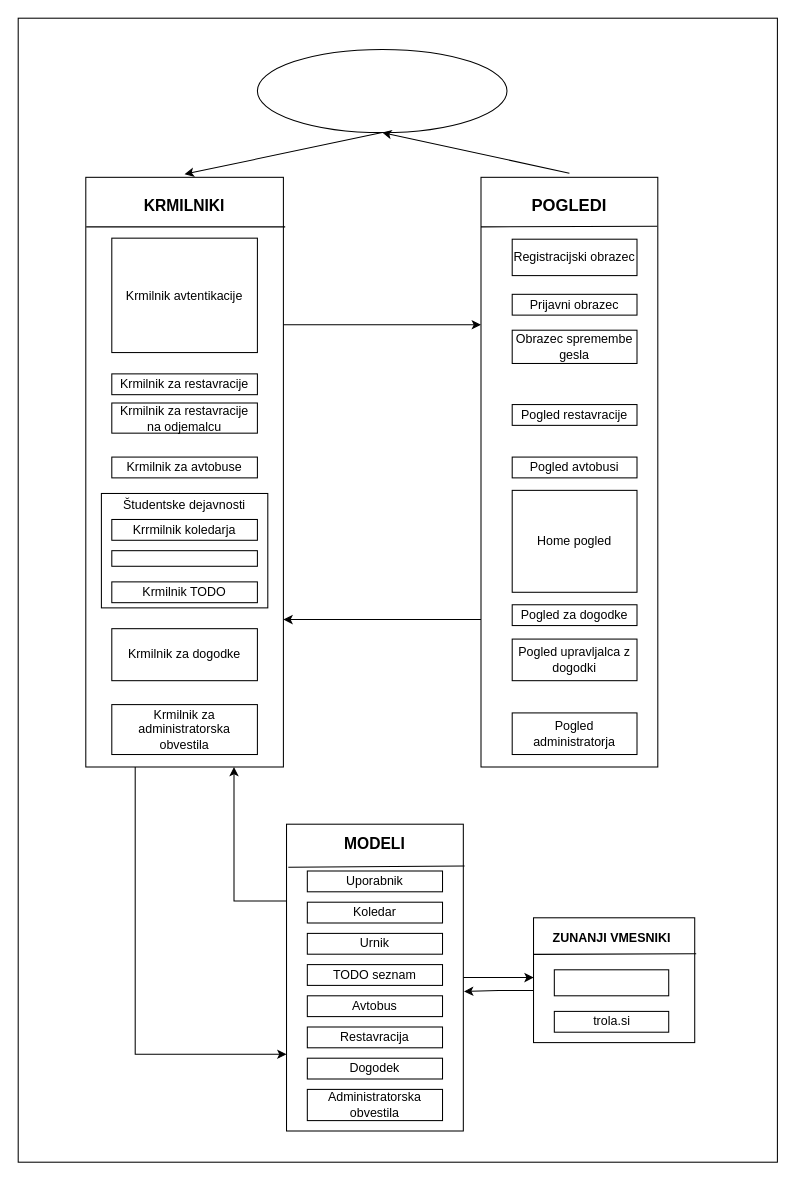
This 796x1180 diagram has some shape labels left out. The centre of each missing label's shape, as x and y in pixels:
BRSKALNIK: pixel 381 90
Google Maps API: pixel 611 982
Krmilnik urnika: pixel 184 558
